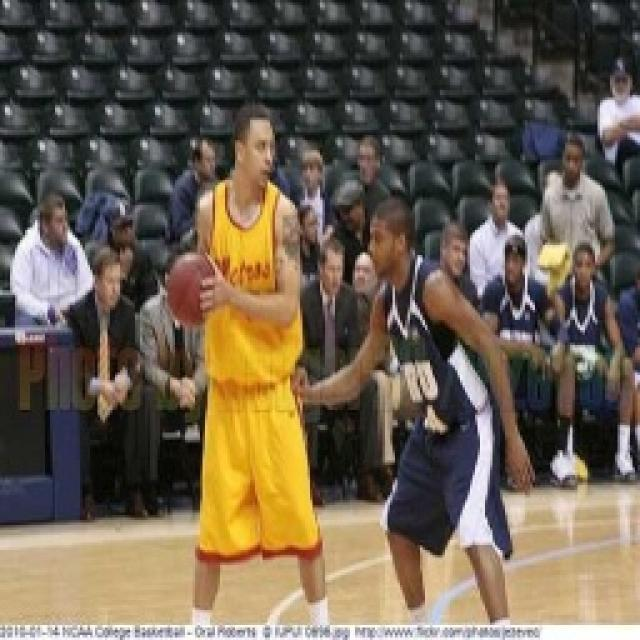rim: (150, 246, 232, 325)
